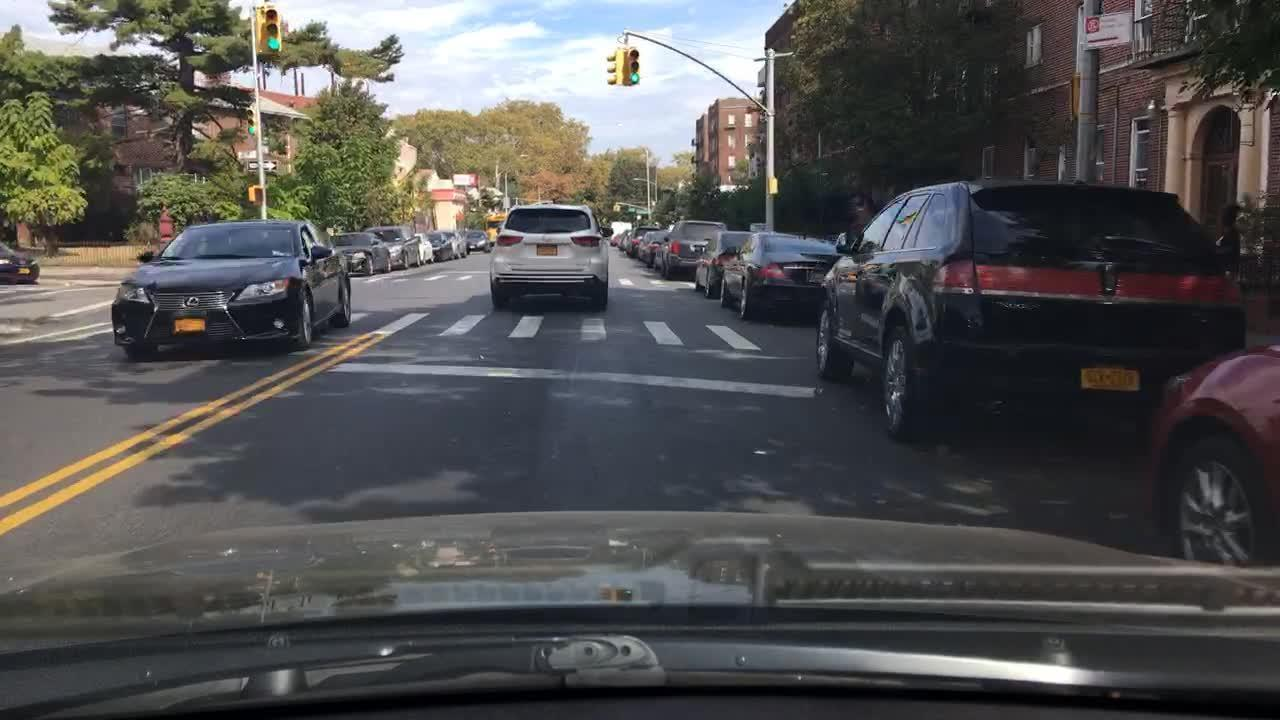lexus: (182, 293, 205, 312)
lincoln: (1101, 264, 1121, 301)
